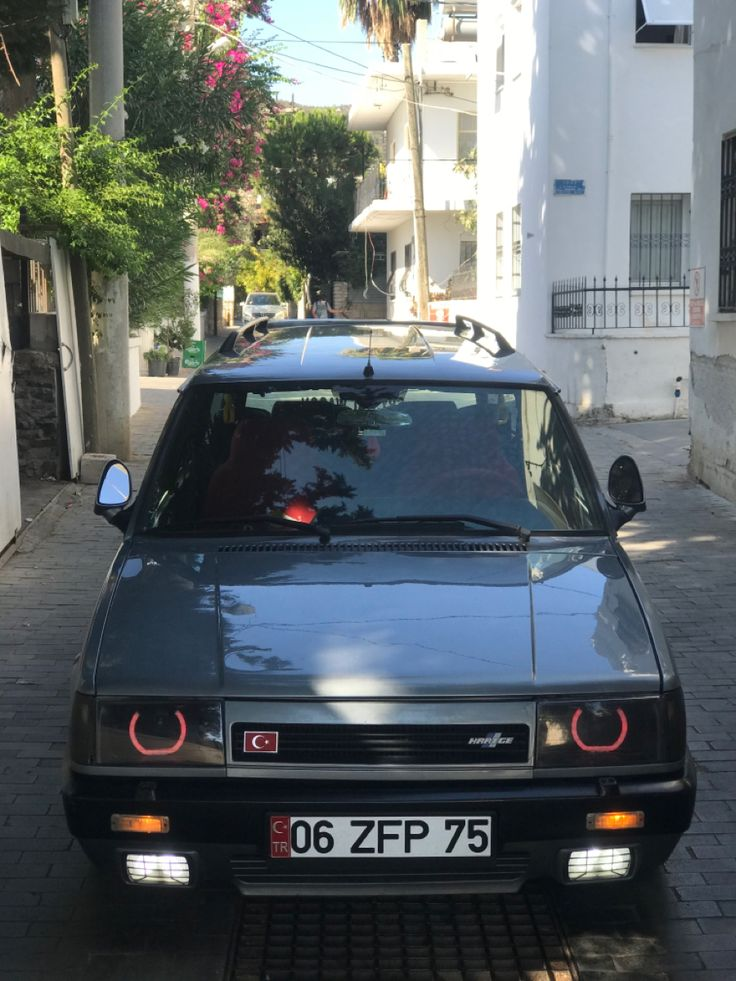plate: (267, 816, 495, 863)
